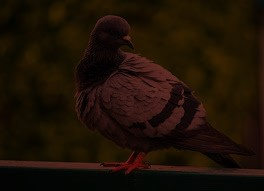pigeon: (72, 12, 259, 177)
